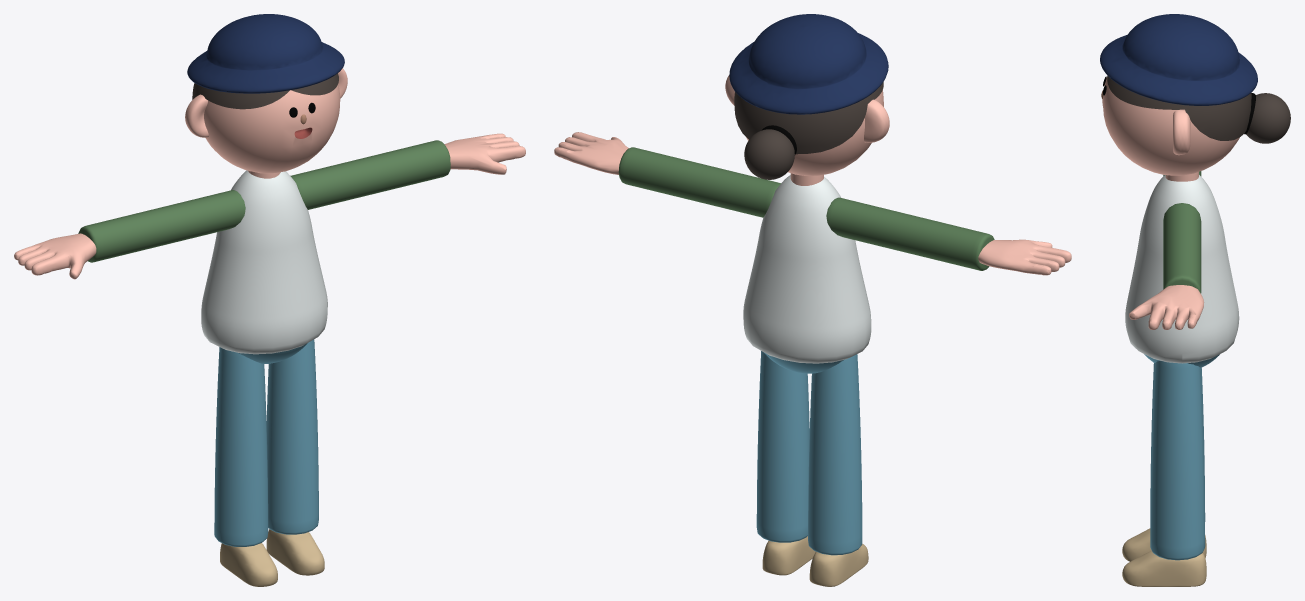
File: GIRL_DEV.fbx
3 views of the same model, side by side, from view 1: azimuth 30°, elevation 25°; view 2: azimuth 150°, elevation 25°; view 3: azimuth 270°, elevation 25° (orthographic).
Visible parts, largest first — view 1: 몸통, 오른다리, Cylinder, Head, 왼다리, 오른팔, 왼쪽_팔, 오른손, 왼손, 왼발, 오른발, Hair; view 2: 몸통, Cylinder, 오른다리, 왼다리, 오른팔, 왼쪽_팔, Hair, Head, 오른손, Sphere, 왼손, 오른발 (+1 smaller); view 3: 몸통, Cylinder, 왼다리, Head, 왼쪽_팔, Hair, 왼발, 왼손, Sphere, 오른발, 오른다리.
Part boxes in pixels (x1,y1,x2,y2): 몸통: (201, 170, 327, 354); 오른다리: (214, 347, 268, 546); Cylinder: (187, 14, 344, 93); Head: (185, 68, 347, 178); 왼다리: (266, 339, 318, 534); 오른팔: (78, 190, 245, 262); 왼쪽_팔: (290, 140, 450, 209); 오른손: (14, 233, 96, 279); 왼손: (444, 133, 525, 174); 왼발: (266, 529, 324, 575); 오른발: (220, 543, 277, 586); Hair: (192, 73, 338, 109); 몸통: (743, 175, 871, 363); Cylinder: (729, 14, 888, 114); 오른다리: (808, 354, 862, 555); 왼다리: (756, 351, 809, 542); 오른팔: (826, 197, 994, 270); 왼쪽_팔: (618, 147, 780, 217); Hair: (734, 82, 883, 154); Head: (725, 75, 889, 185); 오른손: (978, 239, 1071, 275); Sphere: (744, 129, 794, 179); 왼손: (554, 132, 628, 174); 오른발: (809, 544, 868, 586); 몸통: (1125, 175, 1239, 363); Cylinder: (1100, 14, 1257, 105); 왼다리: (1150, 361, 1205, 560); Head: (1102, 77, 1239, 181); 왼쪽_팔: (1163, 203, 1201, 293); Hair: (1107, 75, 1251, 140); 왼발: (1122, 550, 1206, 586); 왼손: (1129, 285, 1204, 329); Sphere: (1246, 93, 1290, 143); 오른발: (1122, 528, 1206, 561); 오른다리: (1150, 363, 1205, 521).
Bounding box in the file's own units: 137 × 143 × 45.2.
